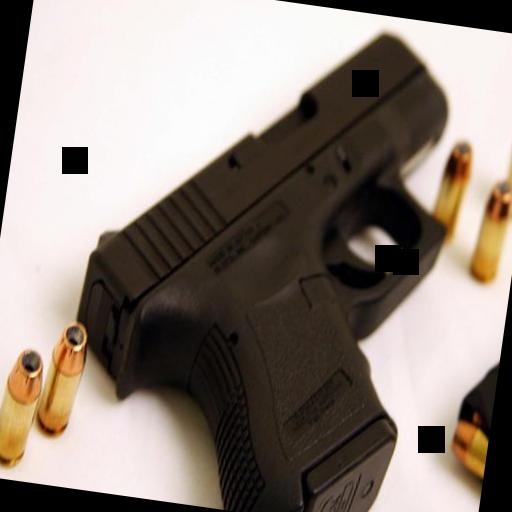Handgun: (52, 0, 473, 512)
